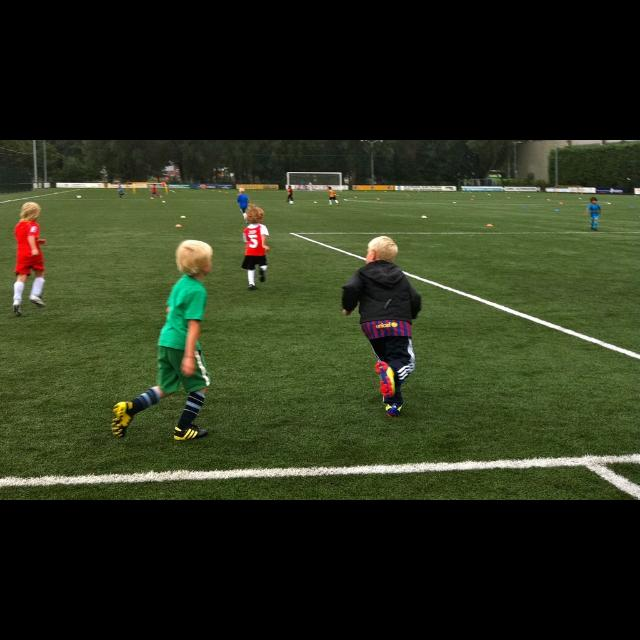Football: (76, 195, 80, 197)
